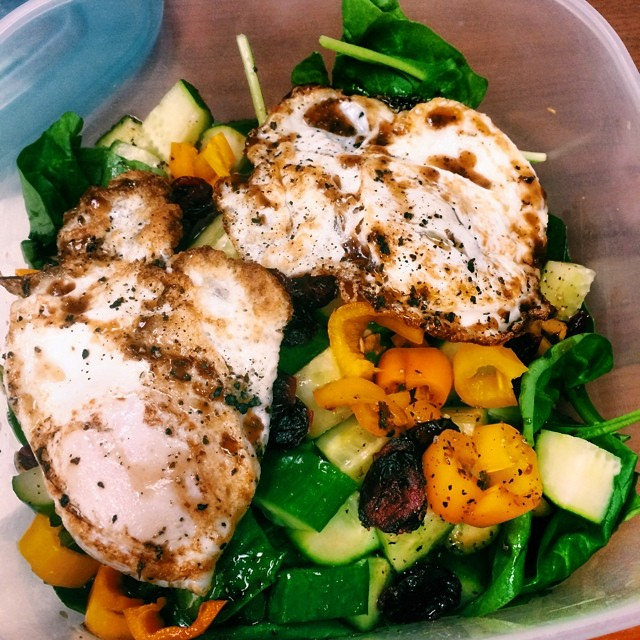fried egg: (17, 251, 283, 584), (222, 77, 549, 332)
